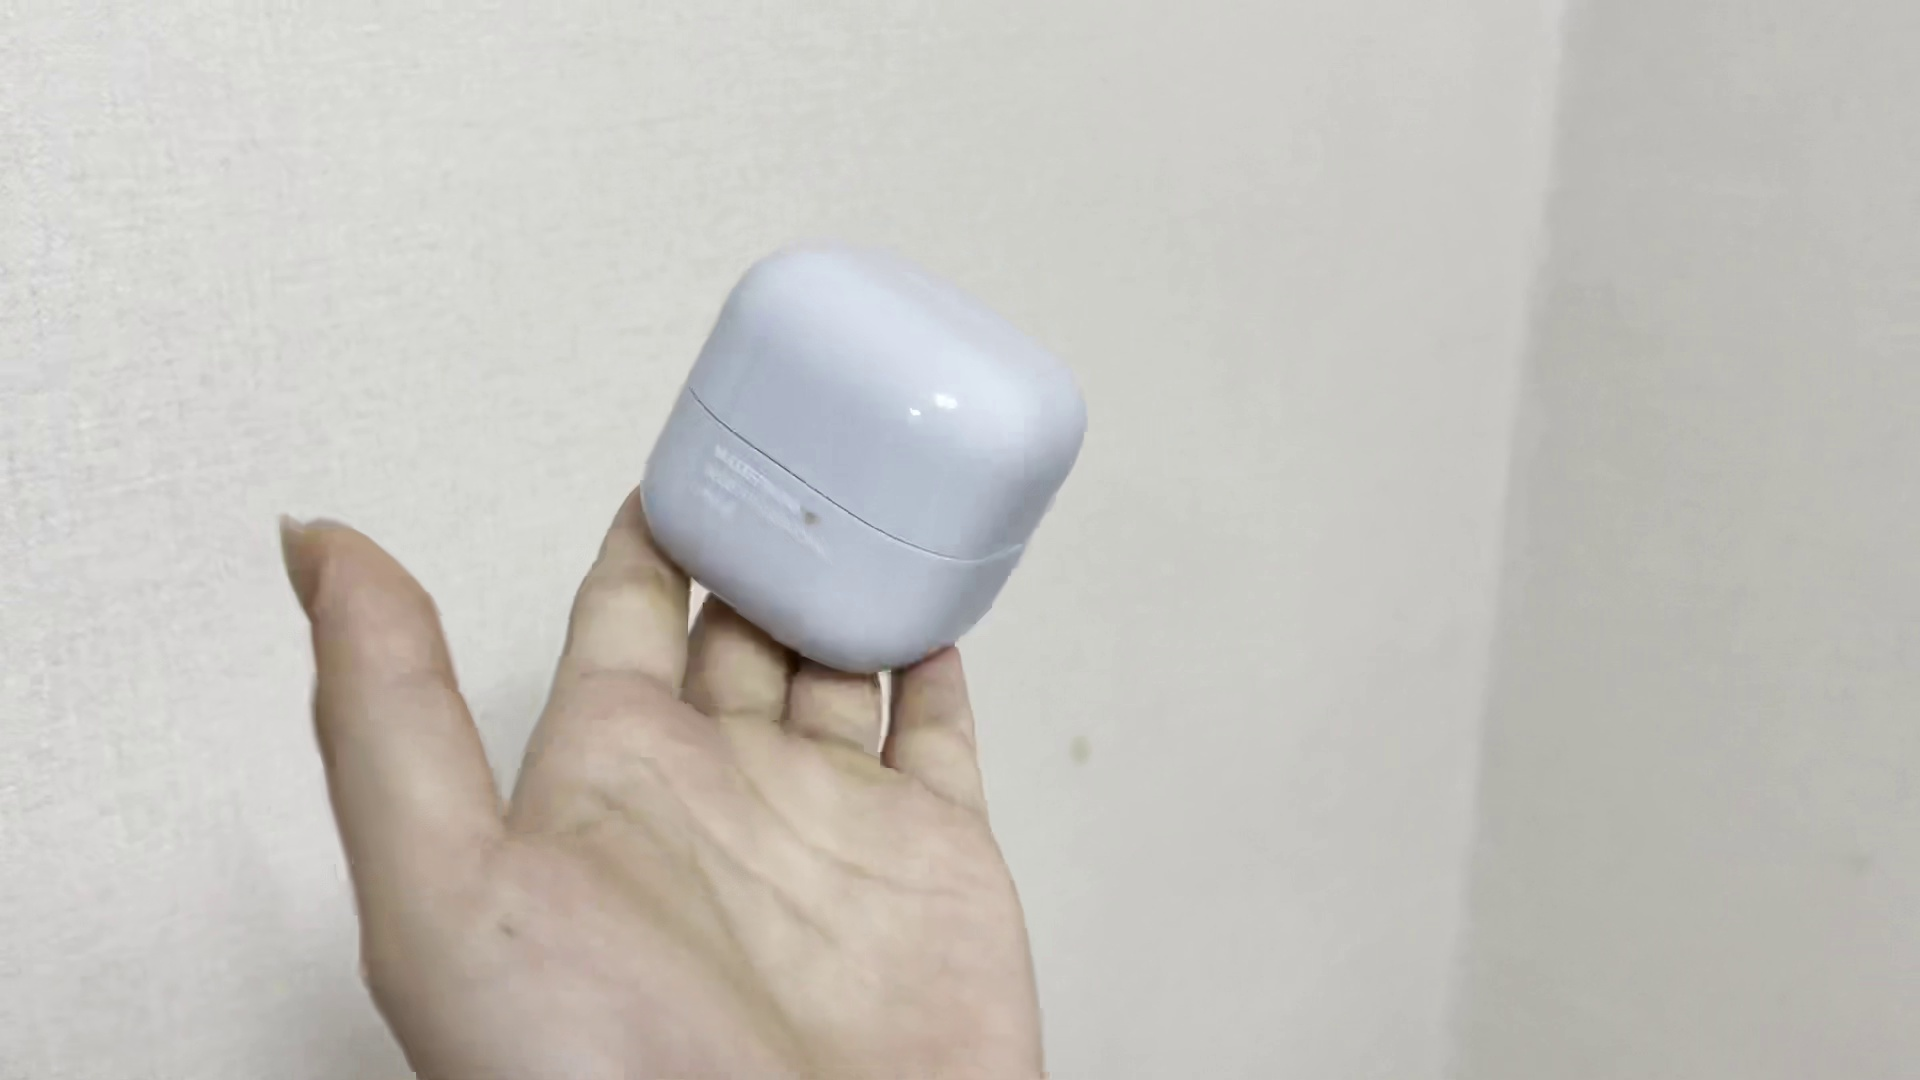cream: (638, 233, 1084, 676)
